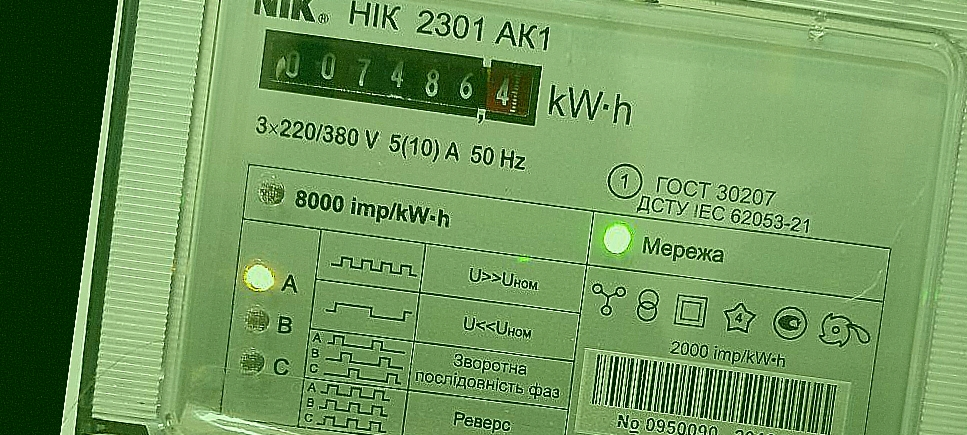0: (279, 44, 304, 81), (316, 47, 338, 82)
4: (385, 53, 407, 91), (491, 73, 513, 109)
6: (455, 68, 478, 102)
7: (348, 53, 375, 88)
8: (421, 64, 442, 101)
screen: (246, 16, 553, 138)
